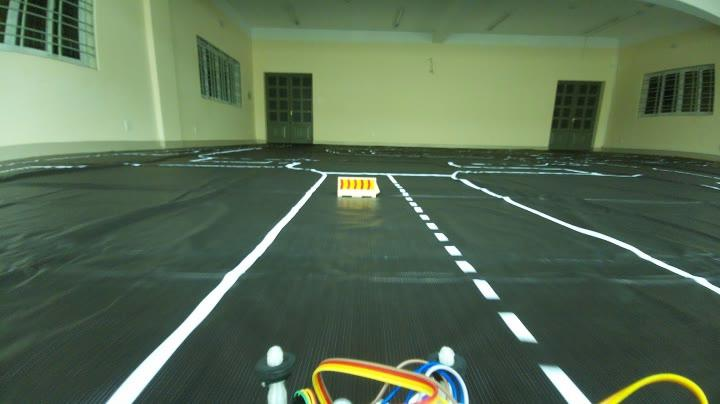roadblock: (332, 170, 386, 203)
